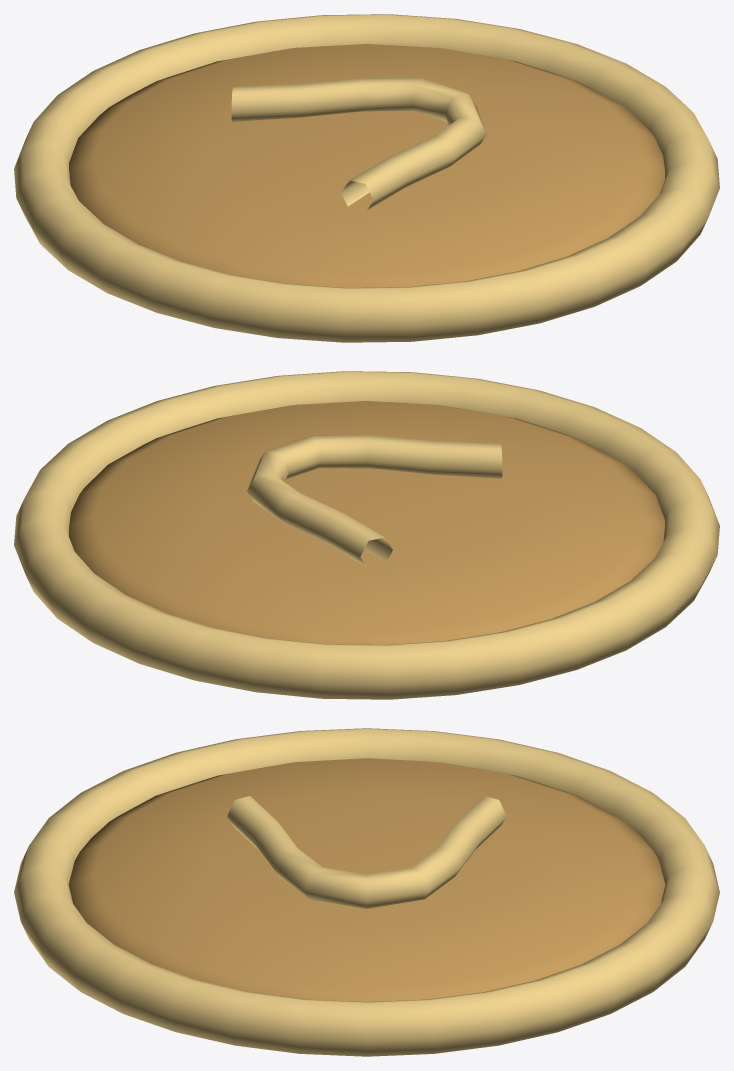
File: Coin.fbx
3 renders of one model, top to bottom at view 1: azimuth 30°, elevation 25°; view 2: azimuth 150°, elevation 25°; view 3: azimuth 270°, elevation 25°, orthographic.
Parts seen in each view (by area): view 1: Coin face_export, Coin rim_export, Stamped sigil_export; view 2: Coin face_export, Coin rim_export, Stamped sigil_export; view 3: Coin face_export, Coin rim_export, Stamped sigil_export.
Boxes of the visible parts, left/top/right/bottom form: Coin face_export: left=69, top=44, right=664, bottom=287; Coin rim_export: left=14, top=14, right=719, bottom=342; Stamped sigil_export: left=231, top=78, right=486, bottom=210; Coin face_export: left=69, top=401, right=664, bottom=644; Coin rim_export: left=14, top=371, right=719, bottom=699; Stamped sigil_export: left=247, top=435, right=502, bottom=567; Coin face_export: left=68, top=758, right=665, bottom=1001; Coin rim_export: left=14, top=728, right=719, bottom=1056; Stamped sigil_export: left=227, top=796, right=506, bottom=908.
Size of the model in its own units: 85 by 12.91 by 85.
